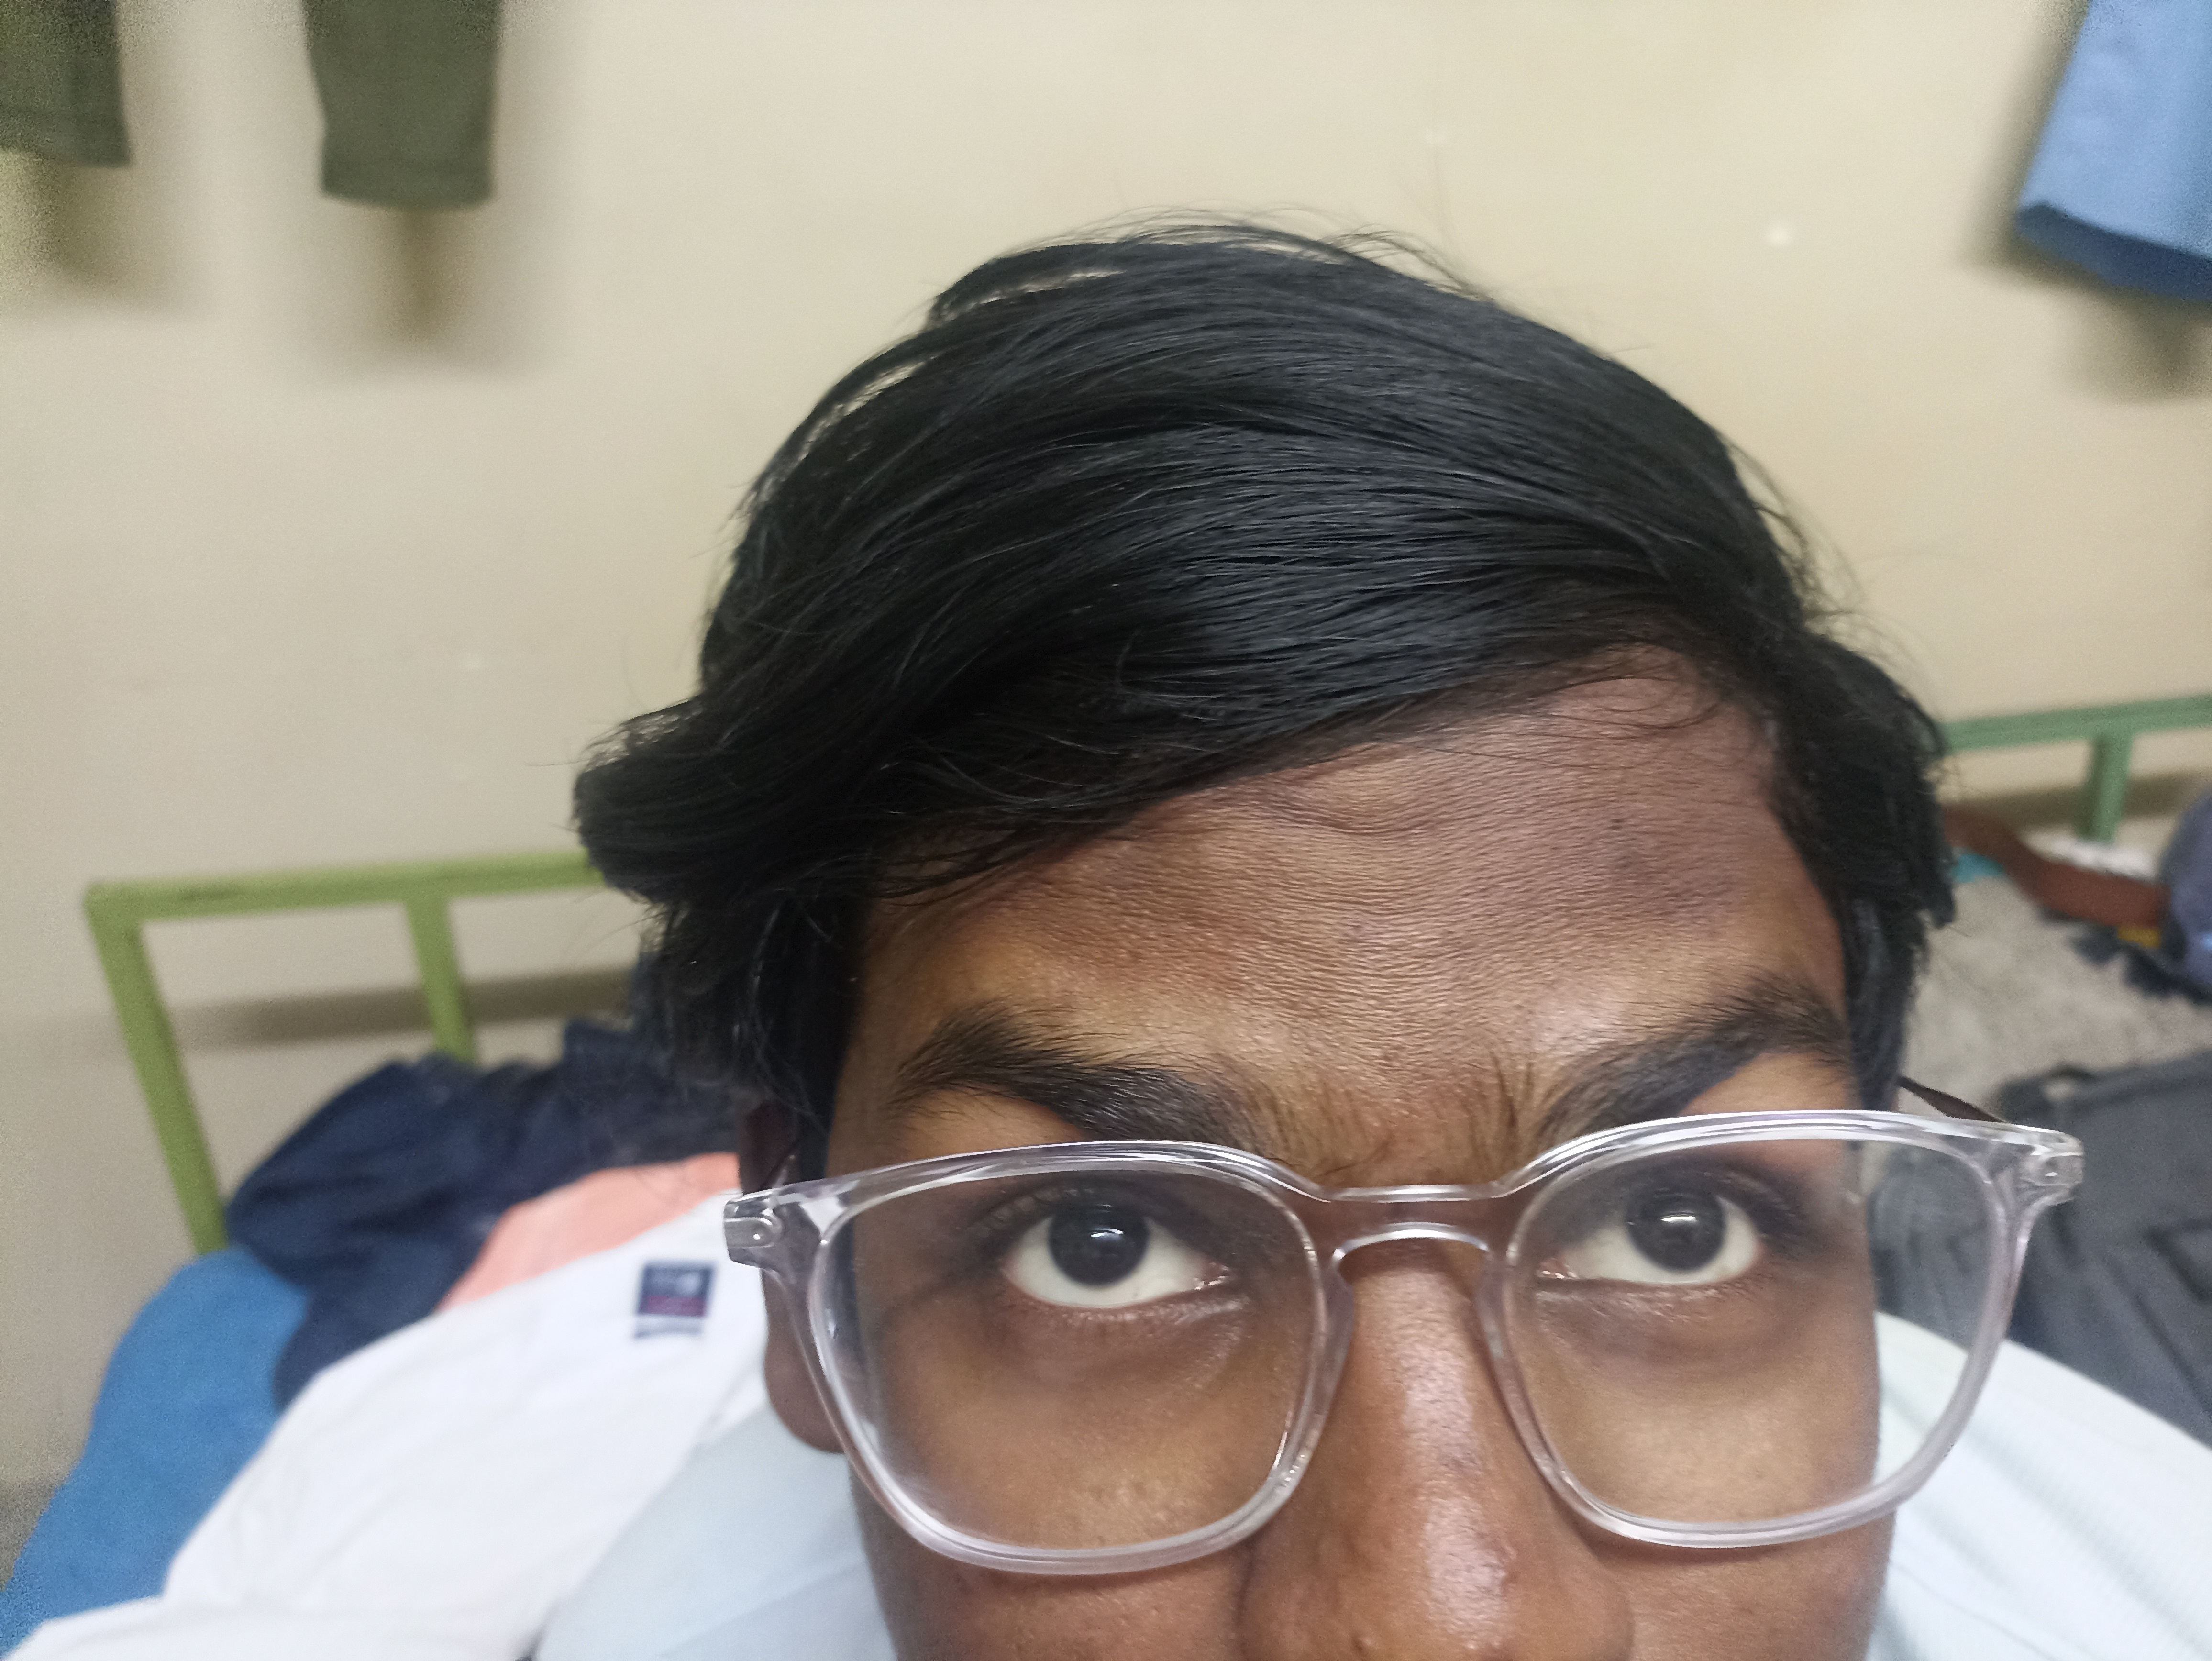EYE UP: (1411, 975, 2029, 1588), (734, 974, 1317, 1546)
